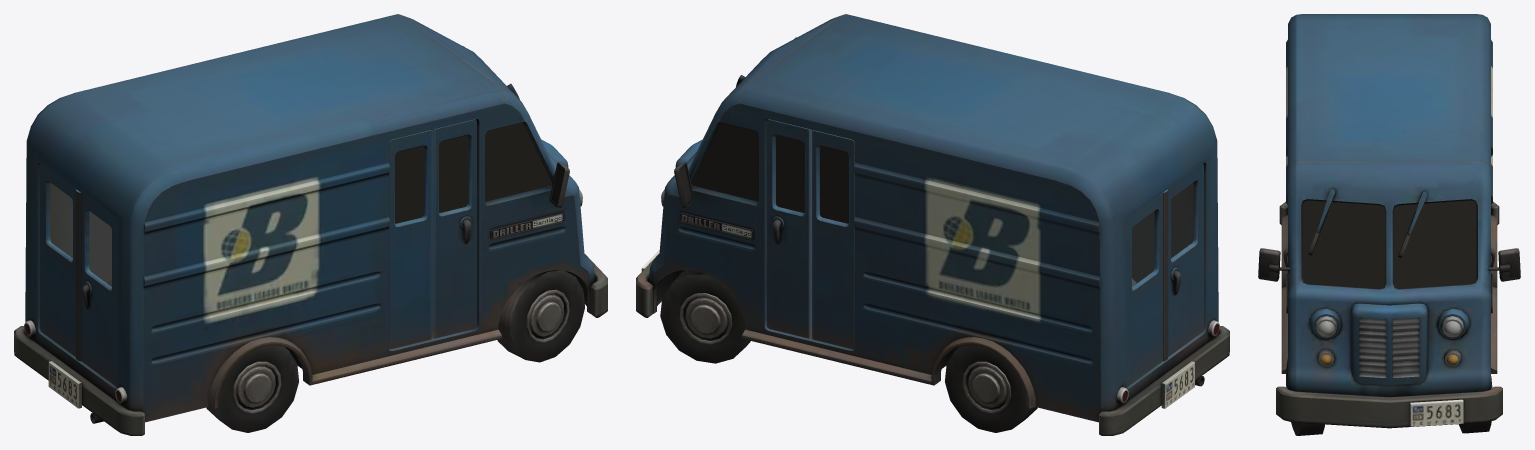
3 views of the same model, side by side, from view 1: azimuth 30°, elevation 25°; view 2: azimuth 150°, elevation 25°; view 3: azimuth 270°, elevation 25° (orthographic). The views are drawn at different scales.
Parts seen in each view (by area): view 1: body0_model0_lod0_mesh0, body0_model0_lod0_mesh1; view 2: body0_model0_lod0_mesh0, body0_model0_lod0_mesh1; view 3: body0_model0_lod0_mesh0, body0_model0_lod0_mesh1.
Part boxes in pixels (x1,y1,x2,y2): body0_model0_lod0_mesh0: (14,14,607,435); body0_model0_lod0_mesh1: (395,122,552,223); body0_model0_lod0_mesh0: (636,14,1229,435); body0_model0_lod0_mesh1: (691,122,848,223); body0_model0_lod0_mesh0: (1258,14,1520,435); body0_model0_lod0_mesh1: (1302,200,1476,289).
Size of the model in its own units: 211 by 112 by 106.
2 materials, 2 textured.
